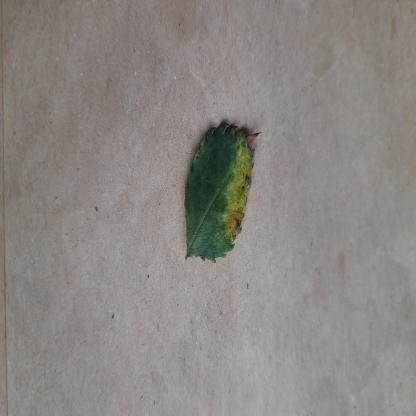black-spot: (183, 116, 261, 266)
